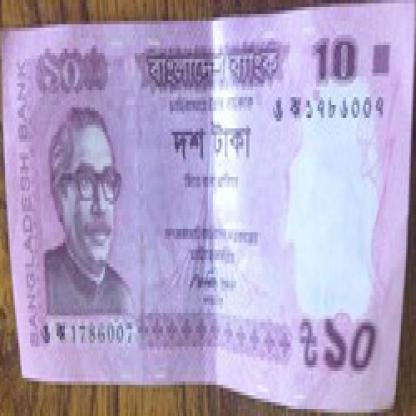Ten Taka: (293, 298, 386, 388), (310, 24, 362, 87), (34, 49, 96, 97)
